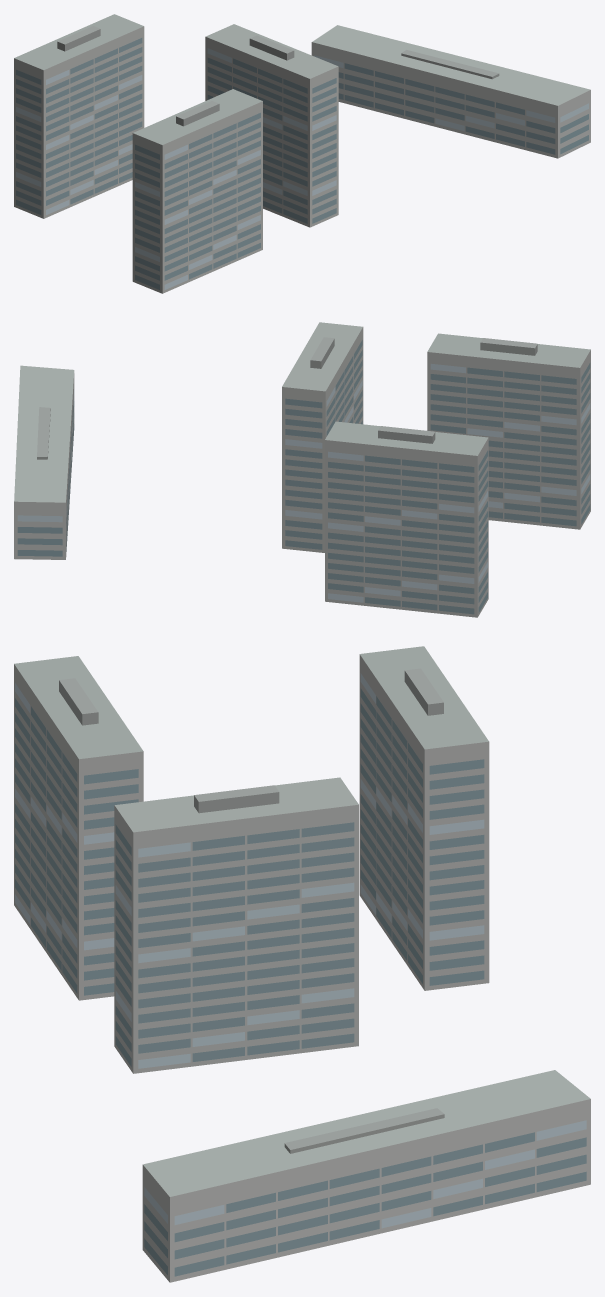
File: apt-a12182401.glb
3 views of the same model, one above another, from view 1: azimuth 30°, elevation 25°; view 2: azimuth 150°, elevation 25°; view 3: azimuth 270°, elevation 25° (orthographic). The views are drawn at different scales.
Parts seen in each view (by area): view 1: apt-a12182401; view 2: apt-a12182401; view 3: apt-a12182401.
Boxes of the visible parts, x1,y1,x2,y2 form: apt-a12182401: (14,14,590,293); apt-a12182401: (14,322,590,617); apt-a12182401: (14,646,590,1282).
Bounding box in the file's own units: 151 × 45 × 93.07.
